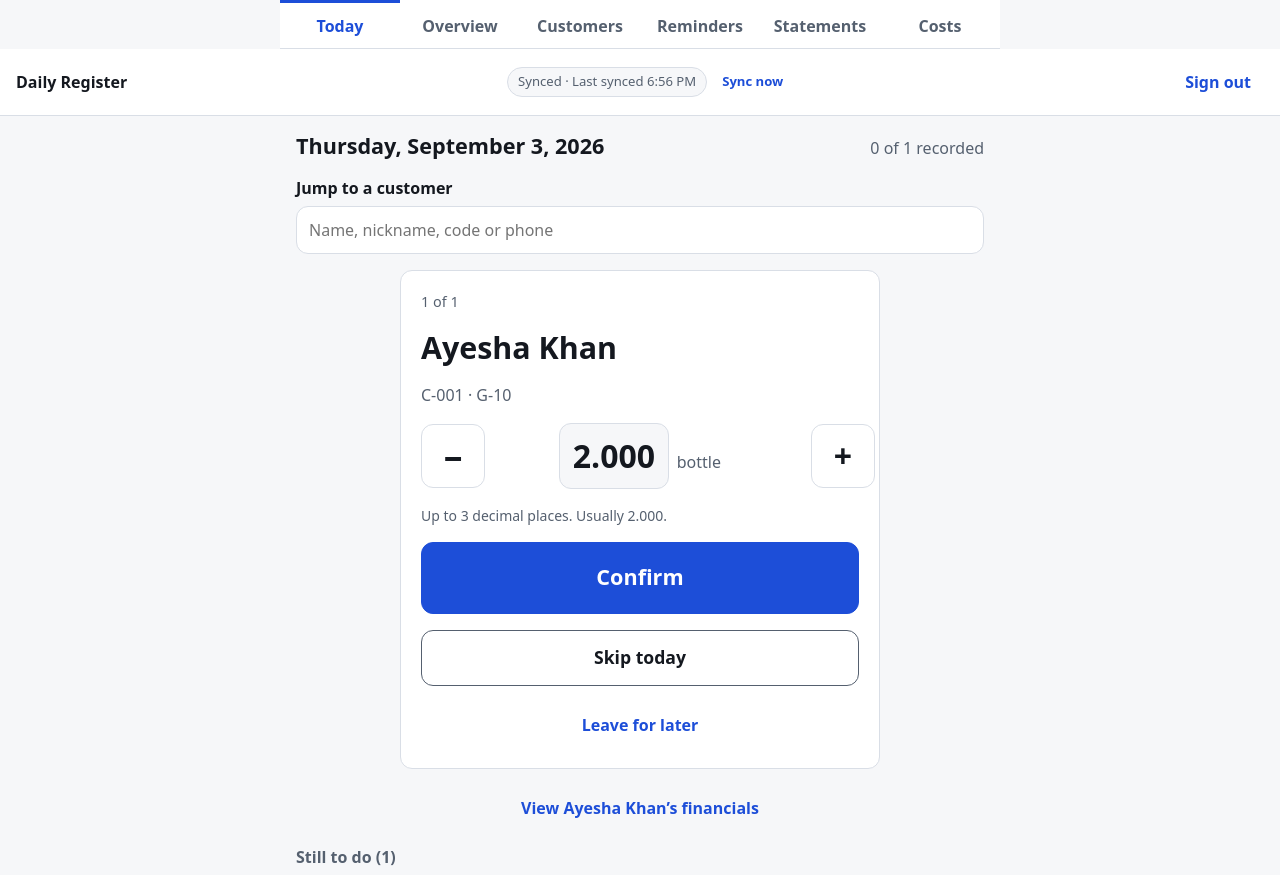
confirming service › says saved on this device, not recorded, until the server answers
Expected: the heading "Ayesha Khan" is shown, x1=421 y1=327 x2=617 y2=368
Step 1. Click the button "Confirm" → (640, 578), box x1=421 y1=542 x2=859 y2=614
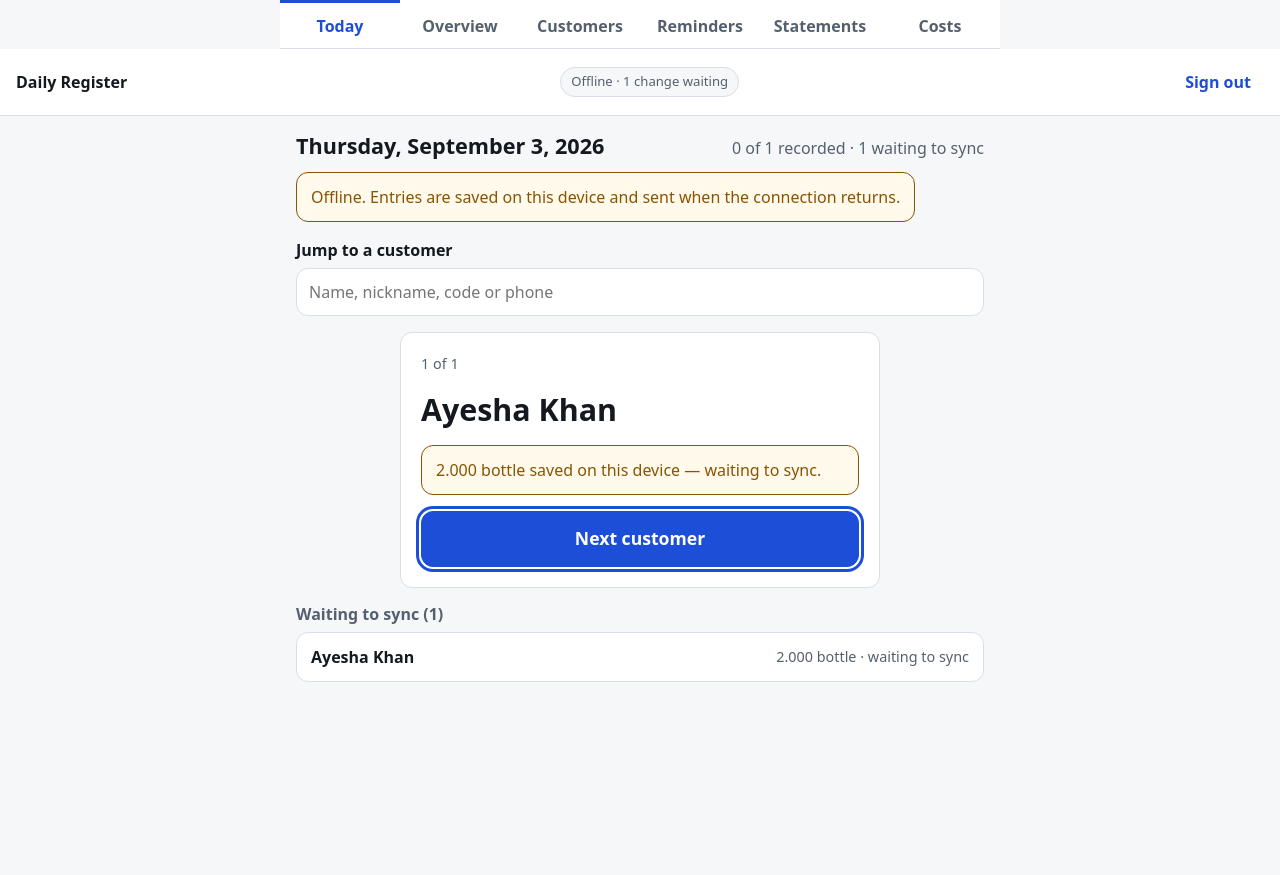
Now the text "2.000 bottle saved on this device — waiting to sync." is shown, box x1=421 y1=445 x2=859 y2=495
